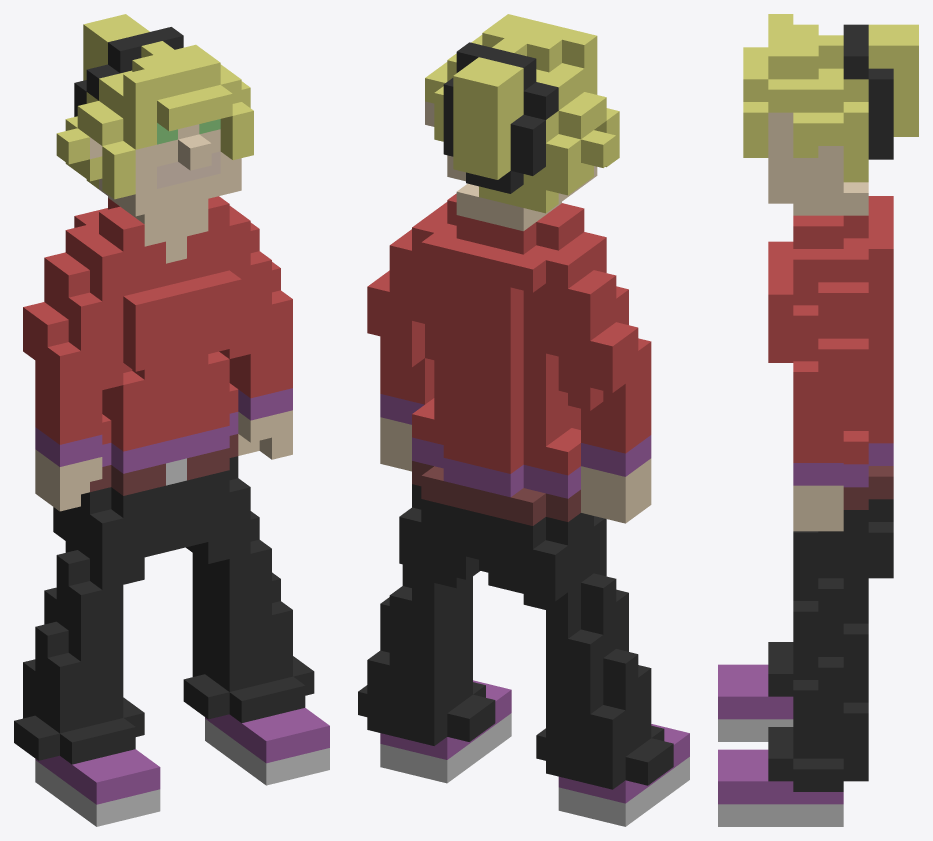
File: girl3_v1.fbx
3 renders of one model, left to right at view 1: azimuth 30°, elevation 25°; view 2: azimuth 150°, elevation 25°; view 3: azimuth 270°, elevation 25°, orthographic. The views are drawn at different scales.
Visible parts, largest first — view 1: girl3; view 2: girl3; view 3: girl3.
Boxes of the visible parts, bbox=[...] form: girl3: bbox=[14, 14, 329, 826]; girl3: bbox=[358, 14, 689, 826]; girl3: bbox=[718, 14, 918, 826].
Size of the model in its own units: 13 by 32 by 8.
